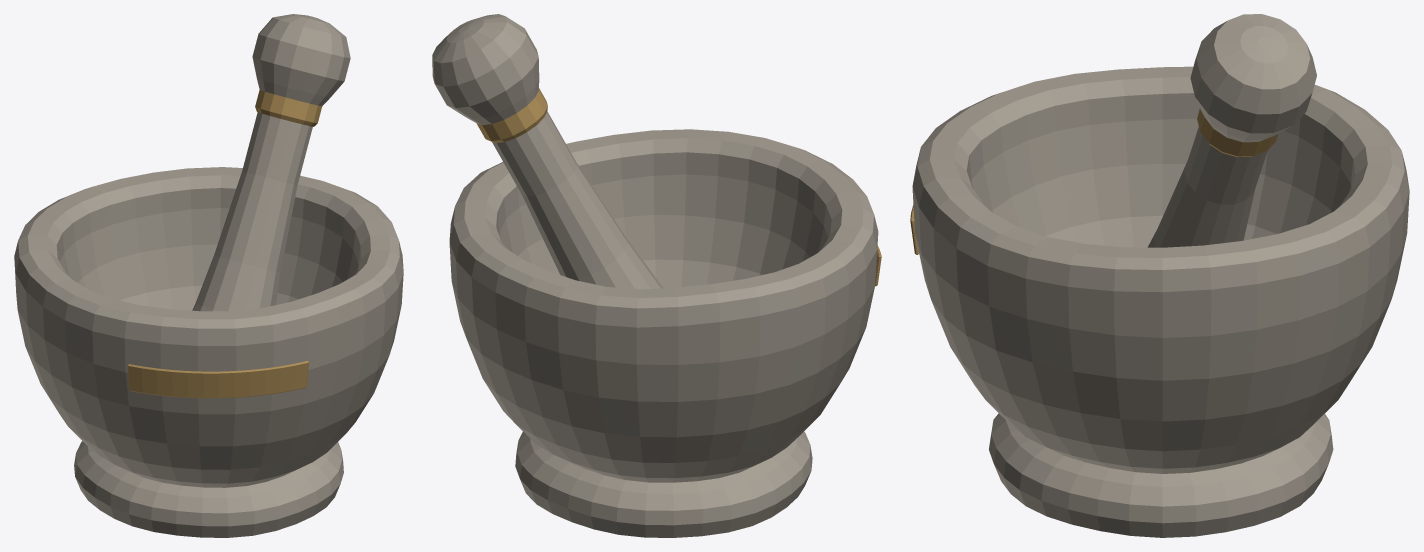
Rendered from asset.glb.
3 views of the same model, side by side, from view 1: azimuth 30°, elevation 25°; view 2: azimuth 150°, elevation 25°; view 3: azimuth 270°, elevation 25° (orthographic). The views are drawn at different scales.
Parts seen in each view (by area): view 1: mortar_body, pestle_stone, mortar_repair_band, pestle_brass_collar; view 2: mortar_body, pestle_stone, pestle_brass_collar; view 3: mortar_body, pestle_stone, pestle_brass_collar.
Part boxes in pixels (x1,y1,x2,y2): mortar_body: (14, 167, 403, 537); pestle_stone: (192, 14, 350, 311); mortar_repair_band: (127, 361, 308, 398); pestle_brass_collar: (255, 90, 322, 126); mortar_body: (449, 129, 878, 537); pestle_stone: (432, 14, 663, 289); pestle_brass_collar: (476, 88, 547, 142); mortar_body: (912, 66, 1409, 537); pestle_stone: (1147, 14, 1316, 247); pestle_brass_collar: (1197, 108, 1278, 157).
Size of the model in its own units: 0.202 by 0.2371 by 0.2029.
